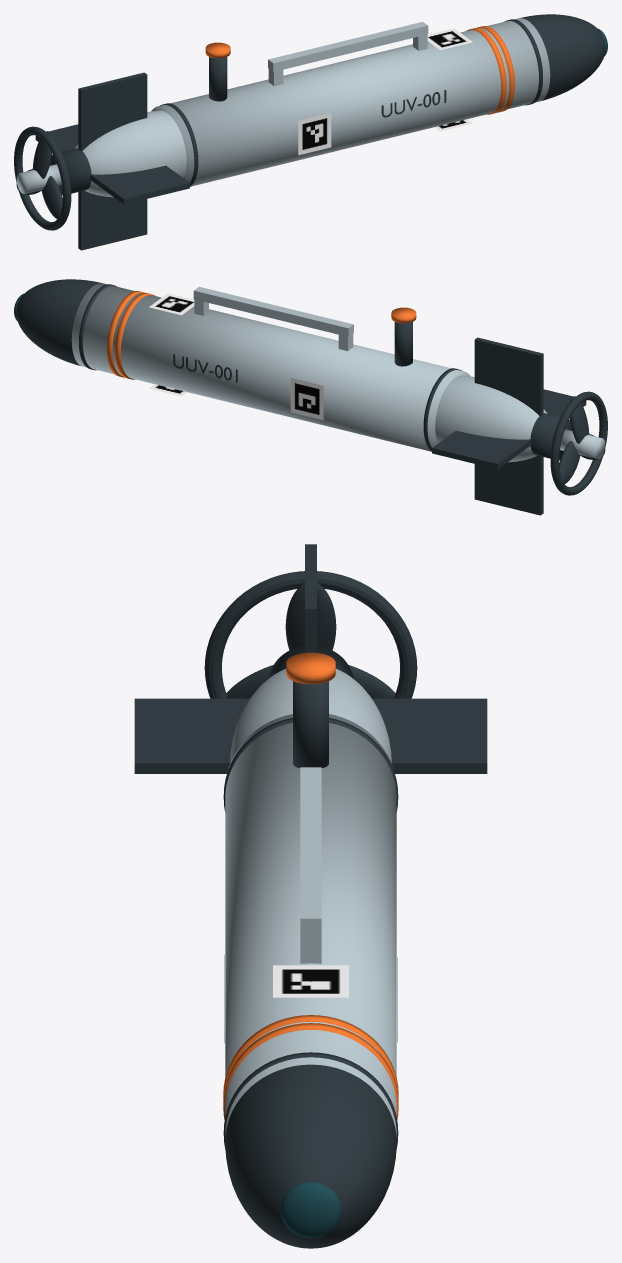
Rendered from uuv_001.glb.
The picture shows the model from 3 angles, top to bottom: view 1: azimuth 30°, elevation 25°; view 2: azimuth 150°, elevation 25°; view 3: azimuth 270°, elevation 25°; orthographic projection. The views are drawn at different scales.
Visible parts, largest first — view 1: Hull, Tail taper, Rounded sensor nose, Cruciform tail fin, Cruciform tail fin.002, Cruciform tail fin.003, Lifting handle, Propeller guard, ArUco_4x4_50_ID_000, Tail motor, Navigation mast, Propeller hub (+10 smaller); view 2: Hull, Tail taper, Rounded sensor nose, Cruciform tail fin, Cruciform tail fin.002, Cruciform tail fin.001, Lifting handle, Propeller guard, ArUco_4x4_50_ID_001, Tail motor, Navigation mast, Propeller hub (+10 smaller); view 3: Hull, Rounded sensor nose, Cruciform tail fin.001, Cruciform tail fin.003, Propeller guard, Tail taper, Lifting handle, Navigation mast, Forward camera window, ArUco_4x4_50_ID_002, Propeller blade, Visibility band.001 (+5 smaller).
Boxes of the visible parts, bbox=[...] form: Hull: bbox=[151, 18, 550, 186]; Tail taper: bbox=[74, 110, 186, 197]; Rounded sensor nose: bbox=[521, 14, 605, 100]; Cruciform tail fin: bbox=[78, 72, 147, 151]; Cruciform tail fin.002: bbox=[78, 190, 147, 250]; Cruciform tail fin.003: bbox=[90, 165, 189, 204]; Lifting handle: bbox=[268, 21, 428, 71]; Propeller guard: bbox=[14, 126, 71, 230]; ArUco_4x4_50_ID_000: bbox=[298, 113, 331, 155]; Tail motor: bbox=[49, 148, 91, 195]; Navigation mast: bbox=[209, 57, 227, 101]; Propeller hub: bbox=[16, 164, 61, 193]; Hull: bbox=[71, 283, 470, 451]; Tail taper: bbox=[435, 375, 547, 462]; Rounded sensor nose: bbox=[16, 279, 100, 365]; Cruciform tail fin: bbox=[474, 337, 543, 416]; Cruciform tail fin.002: bbox=[474, 455, 543, 515]; Cruciform tail fin.001: bbox=[432, 430, 531, 469]; Lifting handle: bbox=[193, 286, 353, 336]; Propeller guard: bbox=[550, 391, 607, 495]; ArUco_4x4_50_ID_001: bbox=[290, 378, 323, 420]; Tail motor: bbox=[530, 413, 572, 460]; Navigation mast: bbox=[394, 322, 412, 366]; Propeller hub: bbox=[560, 429, 605, 458]; Hull: bbox=[225, 714, 396, 1136]; Rounded sensor nose: bbox=[225, 1064, 396, 1248]; Cruciform tail fin.001: bbox=[372, 698, 487, 773]; Cruciform tail fin.003: bbox=[134, 698, 249, 773]; Propeller guard: bbox=[204, 571, 417, 698]; Tail taper: bbox=[230, 669, 391, 762]; Lifting handle: bbox=[300, 767, 321, 935]; Navigation mast: bbox=[293, 681, 328, 767]; Forward camera window: bbox=[280, 1182, 341, 1238]; ArUco_4x4_50_ID_002: bbox=[273, 965, 348, 997]; Propeller blade: bbox=[285, 583, 336, 650]; Visibility band.001: bbox=[223, 1023, 398, 1119].
Bounding box in the file's own units: 2.82 × 0.7775 × 0.74.
Materials: 8 (4 with a texture image).
